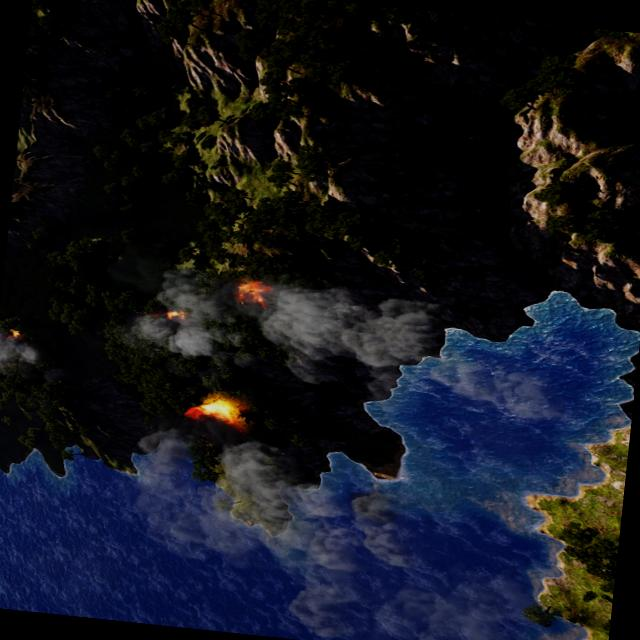fire: (188, 394, 244, 426), (231, 276, 274, 306), (165, 306, 189, 320), (8, 326, 22, 336)
smoke: (85, 242, 585, 446), (0, 322, 67, 378)
